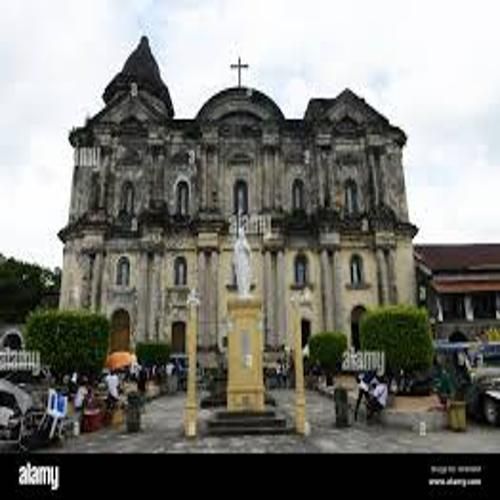Taal Basilica Church: (51, 32, 420, 375)
